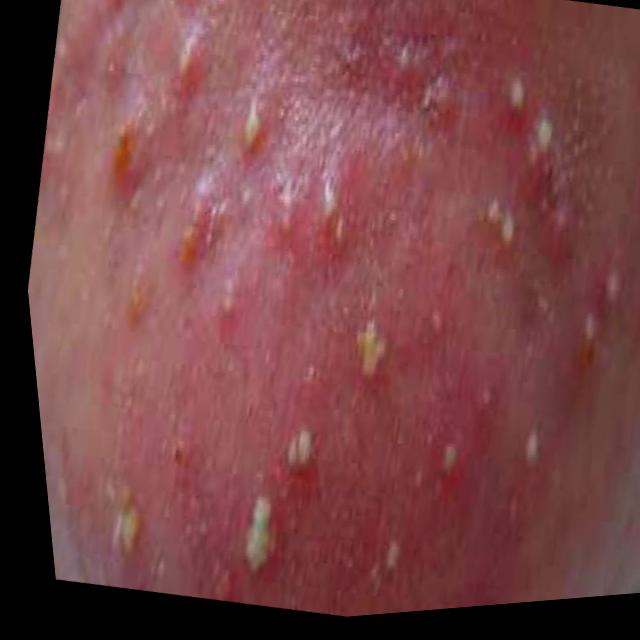pustule: (438, 22, 640, 530), (178, 254, 449, 604), (148, 23, 374, 391)
